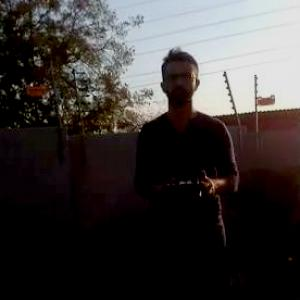follow: (129, 40, 248, 299)
